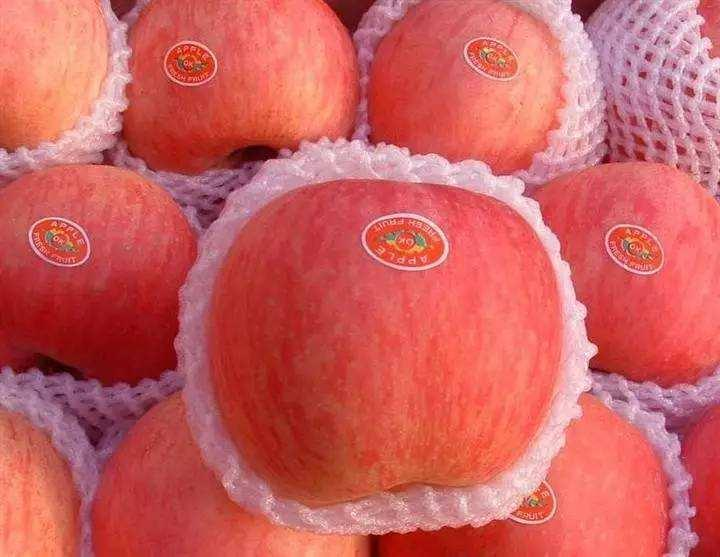apple: (114, 163, 532, 517), (2, 165, 185, 390), (125, 1, 368, 170), (535, 160, 717, 378), (370, 3, 562, 177)
